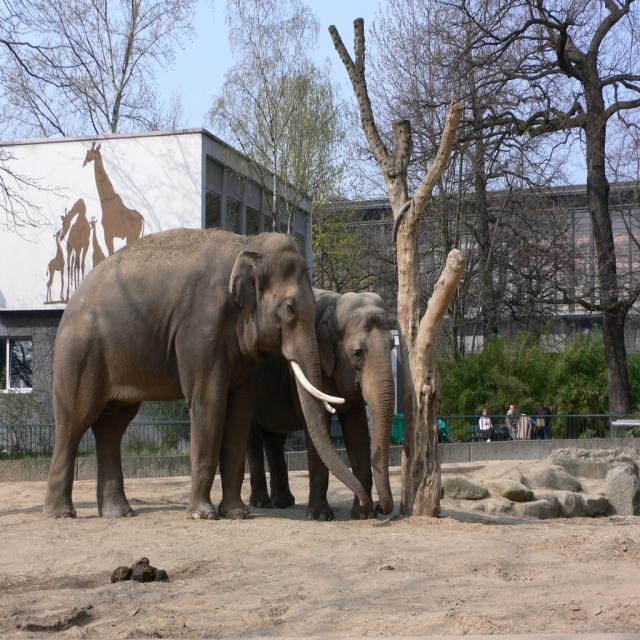elephant: (39, 229, 370, 517), (238, 288, 397, 505)
